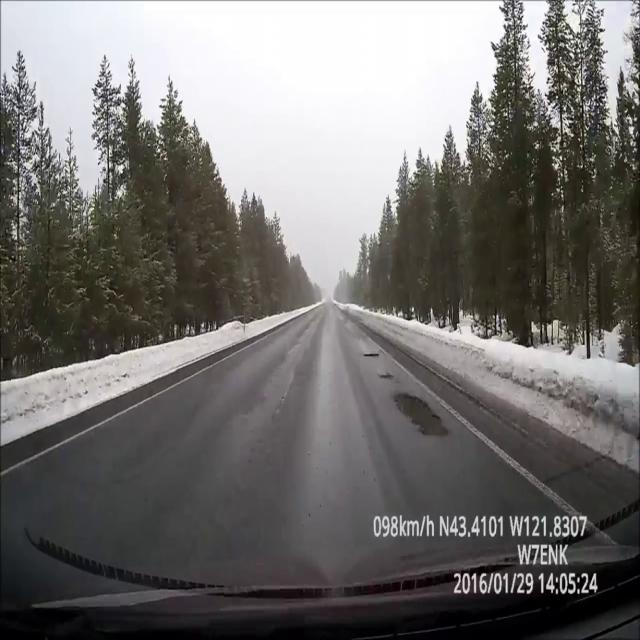Pothole: (394, 392, 452, 435), (380, 371, 396, 380), (363, 352, 380, 358)
